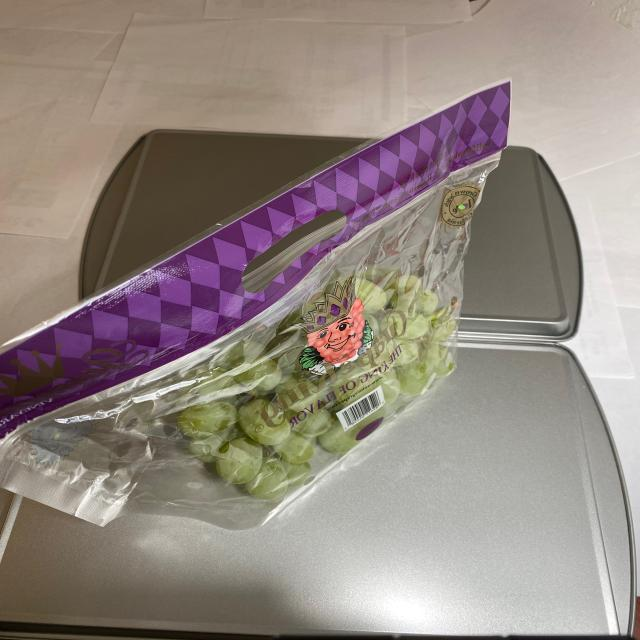grapes: (177, 257, 449, 508)
